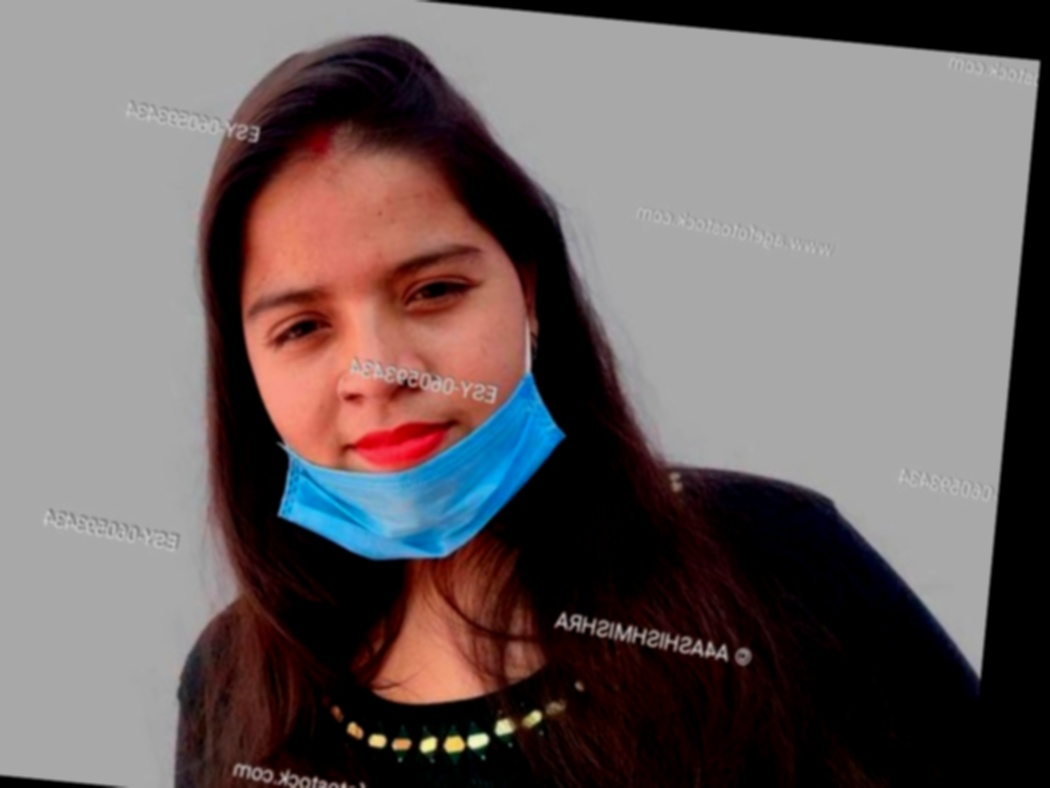mask_weared_incorrect: (203, 49, 558, 569)
